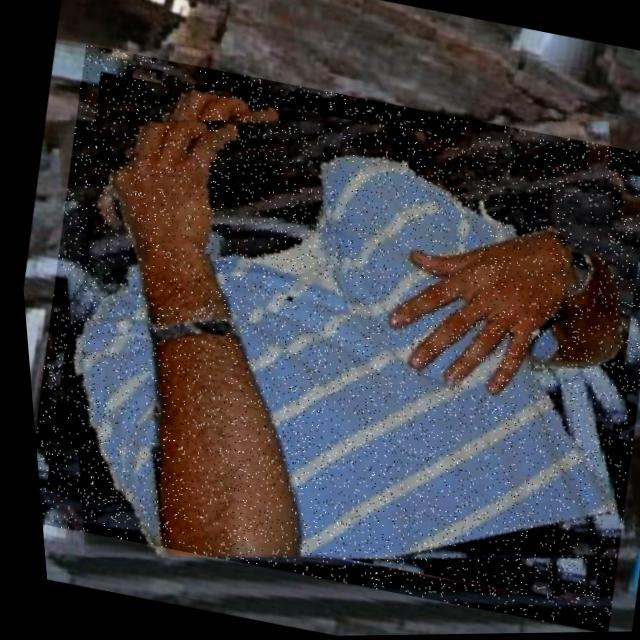Person in Rubble: (3, 38, 640, 640)
